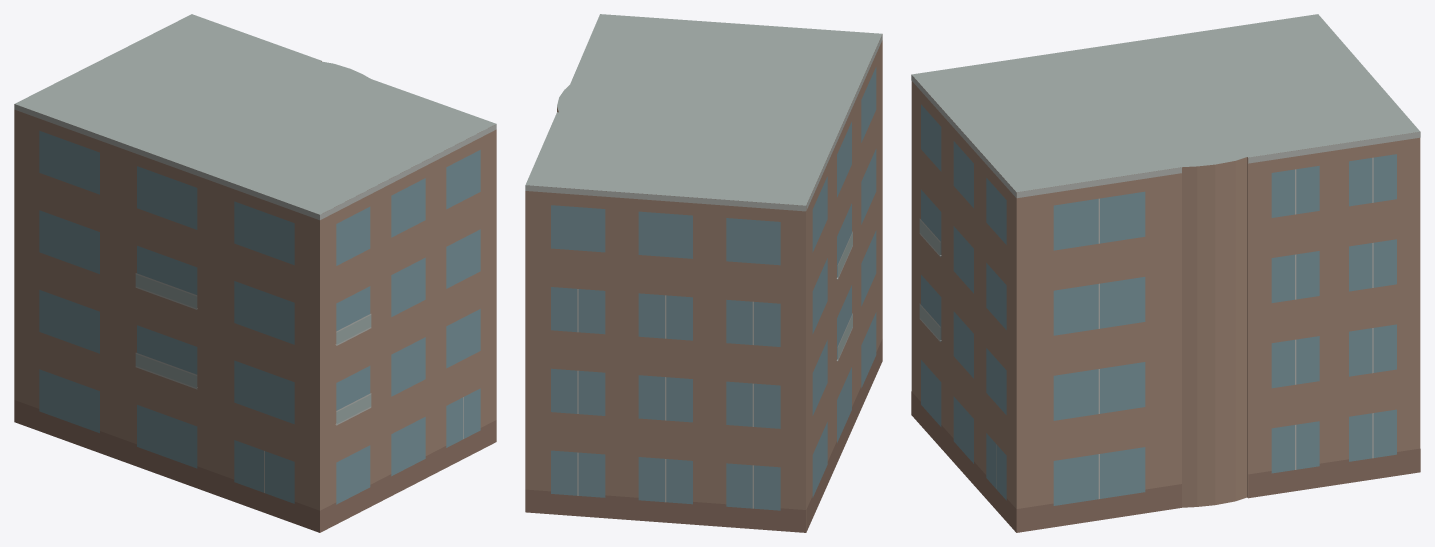
File: survey-upis-32810475.glb
3 renders of one model, left to right at view 1: azimuth 30°, elevation 25°; view 2: azimuth 150°, elevation 25°; view 3: azimuth 270°, elevation 25°, orthographic. The views are drawn at different scales.
Parts seen in each view (by area): view 1: survey-upis-32810475.tmp; view 2: survey-upis-32810475.tmp; view 3: survey-upis-32810475.tmp.
Boxes of the visible parts, left/top/right/bottom form: survey-upis-32810475.tmp: left=14, top=14, right=496, bottom=532; survey-upis-32810475.tmp: left=525, top=14, right=882, bottom=532; survey-upis-32810475.tmp: left=911, top=14, right=1420, bottom=532.
Bounding box in the file's own units: 15.62 × 13.9 × 18.84.
